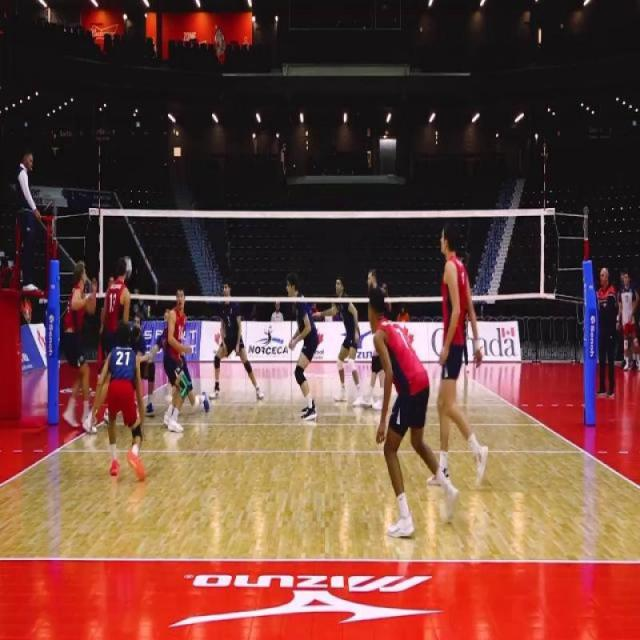volleyball: (124, 253, 133, 280)
